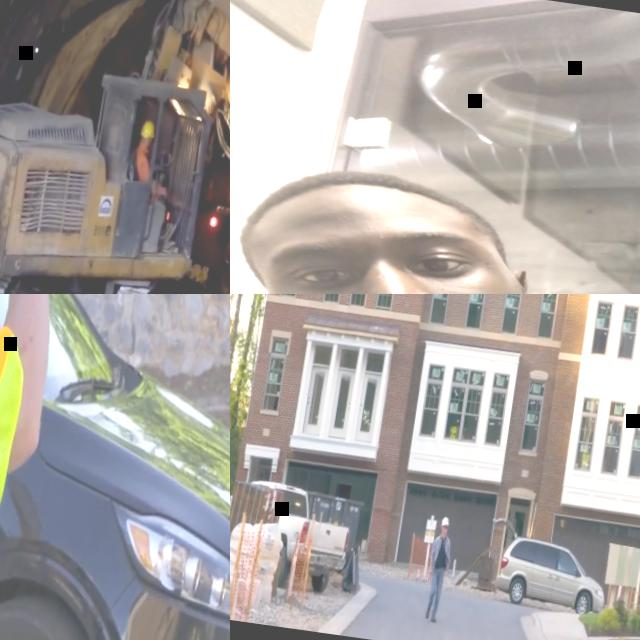Hardhat: (140, 120, 156, 138), (443, 516, 450, 526)
NO-Hardhat: (246, 154, 504, 256)
NO-Mask: (442, 528, 448, 536), (146, 140, 150, 148)
NO-Safety Vest: (431, 535, 452, 571)
Person: (230, 138, 640, 294), (0, 294, 94, 640), (124, 118, 181, 239), (422, 514, 458, 622)
Safety Vest: (130, 142, 154, 183)
vehicle: (0, 294, 230, 640), (0, 0, 230, 294), (230, 473, 354, 594), (481, 516, 616, 616)
